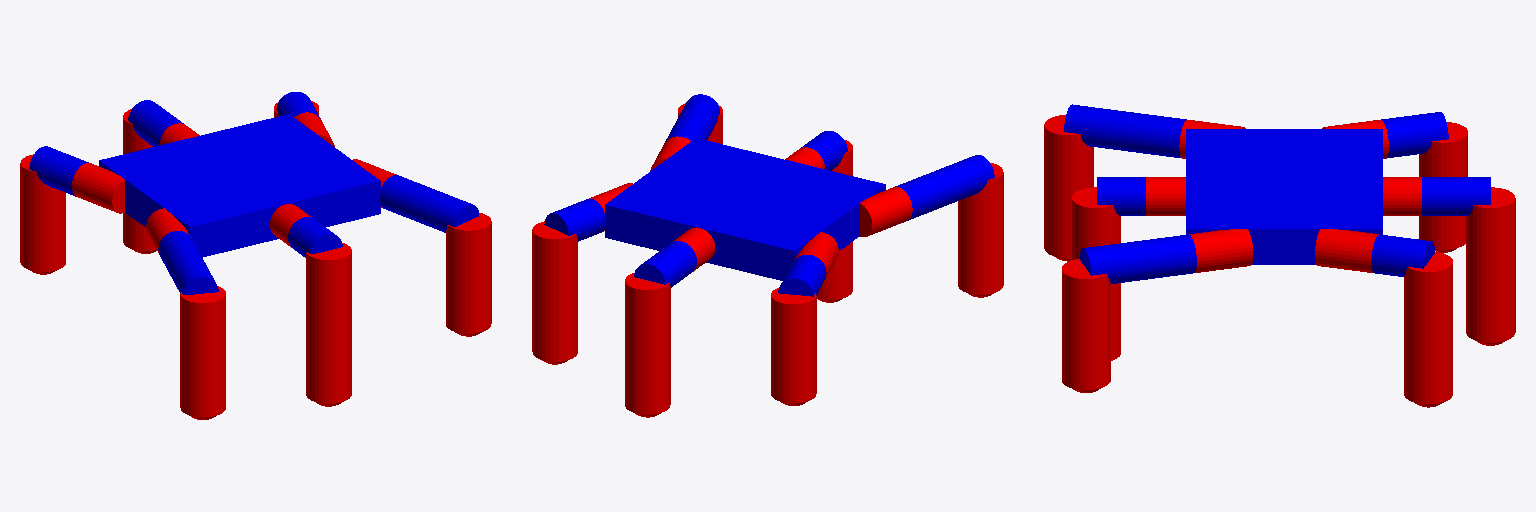
--- Facts derived from the render (not from the file) ---
The picture shows the robot from 3 angles, left to right: view 1: azimuth 30°, elevation 25°; view 2: azimuth 150°, elevation 25°; view 3: azimuth 270°, elevation 25°; orthographic projection.
Model pexod with 19 links and 18 joints (18 revolute), rooted at base_link, posed all joints at 0.
Visible links, largest first — view 1: base_link, leg_4_3, leg_5_3, leg_3_3, leg_0_3, leg_3_2, leg_5_2, leg_0_1, leg_0_2, leg_1_3, leg_4_2, leg_1_2 (+3 smaller); view 2: base_link, leg_1_3, leg_2_3, leg_0_3, leg_5_3, leg_5_2, leg_5_1, leg_1_2, leg_4_3, leg_2_2, leg_3_2, leg_0_2 (+3 smaller); view 3: base_link, leg_1_3, leg_2_3, leg_3_3, leg_5_3, leg_5_2, leg_3_2, leg_0_3, leg_4_3, leg_1_2, leg_2_1, leg_3_1 (+6 smaller).
Link boxes in pixels (x1=…): base_link: x1=99, y1=114, x2=380, y2=257; leg_4_3: x1=306, y1=243, x2=351, y2=406; leg_5_3: x1=180, y1=286, x2=225, y2=419; leg_3_3: x1=446, y1=213, x2=491, y2=336; leg_0_3: x1=20, y1=154, x2=65, y2=274; leg_3_2: x1=379, y1=175, x2=478, y2=232; leg_5_2: x1=158, y1=231, x2=218, y2=294; leg_0_1: x1=72, y1=163, x2=124, y2=213; leg_0_2: x1=29, y1=146, x2=88, y2=196; leg_1_3: x1=123, y1=109, x2=156, y2=253; leg_4_2: x1=288, y1=217, x2=342, y2=257; leg_1_2: x1=128, y1=100, x2=183, y2=146; base_link: x1=605, y1=138, x2=885, y2=280; leg_1_3: x1=625, y1=273, x2=670, y2=417; leg_2_3: x1=532, y1=221, x2=577, y2=364; leg_0_3: x1=771, y1=288, x2=816, y2=405; leg_5_3: x1=958, y1=163, x2=1003, y2=297; leg_5_2: x1=895, y1=155, x2=994, y2=220; leg_5_1: x1=860, y1=187, x2=912, y2=236; leg_1_2: x1=634, y1=241, x2=696, y2=287; leg_4_3: x1=817, y1=140, x2=852, y2=302; leg_2_2: x1=544, y1=199, x2=605, y2=241; leg_3_2: x1=665, y1=94, x2=719, y2=141; leg_0_2: x1=778, y1=255, x2=826, y2=296; base_link: x1=1186, y1=129, x2=1382, y2=264; leg_1_3: x1=1466, y1=187, x2=1515, y2=345; leg_2_3: x1=1404, y1=252, x2=1452, y2=407; leg_3_3: x1=1062, y1=259, x2=1110, y2=392; leg_5_3: x1=1044, y1=115, x2=1093, y2=261; leg_5_2: x1=1064, y1=104, x2=1186, y2=157; leg_3_2: x1=1080, y1=234, x2=1196, y2=283; leg_0_3: x1=1419, y1=122, x2=1467, y2=252; leg_4_3: x1=1072, y1=187, x2=1120, y2=360; leg_1_2: x1=1422, y1=177, x2=1490, y2=215; leg_2_1: x1=1315, y1=229, x2=1378, y2=272; leg_3_1: x1=1189, y1=229, x2=1252, y2=272.
Bounding box of the posed robot: 0.3946 × 0.4775 × 0.2059 m (x, y, z).
Geometry: primitives only (box / cylinder / sphere), no mesh files.

robot.urdf — pexod:
<?xml version="1.0" ?>
<!-- =================================================================================== -->
<!-- |    This document was autogenerated by xacro from pexod.xacro                    | -->
<!-- |    EDITING THIS FILE BY HAND IS NOT RECOMMENDED                                 | -->
<!-- =================================================================================== -->
<robot name="pexod" xmlns:xacro="http://www.ros.org/wiki/xacro">
  <!-- <xacro:include filename="$(find pexod_description)/urdf/pexod_control.xacro" /> -->
  <!-- MATERIALS -->
  <material name="Blue">
    <color rgba="0 0 1 1"/>
  </material>
  <material name="Red">
    <color rgba="1 0 0 1"/>
  </material>
  <material name="Green">
    <color rgba="0 1 0 1"/>
  </material>
  <material name="Yellow">
    <color rgba="1 1 0 1"/>
  </material>
  <material name="LightGrey">
    <color rgba="0.6 0.6 0.6 1.0"/>
  </material>
  <!-- END OF MATERIALS -->
  <!-- XACRO MACROS FOR VISUALS AND COLLISIONS -->
  <!-- END OF XACRO MACROS -->
  <!-- TORSO -->
  <link name="base_link">
    <visual>
      <origin rpy="0 0 0" xyz="0 0 0"/>
      <geometry>
        <box size="0.24 0.2 0.04"/>
      </geometry>
      <material name="Blue"/>
    </visual>
    <collision>
      <origin rpy="0 0 0" xyz="0 0 0"/>
      <geometry>
        <box size="0.24 0.2 0.04"/>
      </geometry>
    </collision>
    <inertial>
      <!-- CENTER OF MASS -->
      <origin rpy="0 0 0" xyz="0 0 0"/>
      <mass value="1.031"/>
      <!-- box inertia: 1/12*m(y^2+z^2), ... -->
      <inertia ixx="0.00357413333333" ixy="0" ixz="0" iyy="0.00508626666667" iyz="0" izz="0.00838546666667"/>
    </inertial>
  </link>
  <!-- XACRO MACRO FOR LEGS LINKS/JOINTS -->
  <!-- END OF LEG LINKS/JOINTS -->
  <joint name="body_leg_2" type="revolute">
    <parent link="base_link"/>
    <child link="leg_2_1"/>
    <limit effort="30.0" lower="-1.57079632679" upper="1.57079632679" velocity="7.0"/>
    <origin rpy="0 0 -0.3" xyz="0.11 0.04 0"/>
    <!-- <xacro:if value="${index == 5 or index == 4 or index == 3}">
                <axis xyz="0 0 1"/>
            </xacro:if>
            <xacro:if value="${index == 2 or index == 1 or index == 0}"> -->
    <axis xyz="0 0 1"/>
    <!-- </xacro:if> -->
    <dynamics damping="0.0"/>
  </joint>
  <link name="leg_2_1">
    <visual>
      <origin rpy="1.57079632679 0 0" xyz="0.01 0.03 0"/>
      <geometry>
        <cylinder length="0.06" radius="0.02"/>
      </geometry>
      <material name="Red"/>
    </visual>
    <collision>
      <origin rpy="1.57079632679 0 0" xyz="0.01 0.03 0"/>
      <geometry>
        <box size="0.02 0.02 0.06"/>
      </geometry>
    </collision>
    <inertial>
      <!-- CENTER OF MASS -->
      <origin rpy="1.57079632679 0 0" xyz="0.01 0.03 0"/>
      <mass value="0.02"/>
      <!-- box inertia: 1/12*m(y^2+z^2), ... -->
      <inertia ixx="6.66666666667e-06" ixy="0" ixz="0" iyy="6.66666666667e-06" iyz="0" izz="1.33333333333e-06"/>
    </inertial>
  </link>
  <joint name="leg_2_1_2" type="revolute">
    <parent link="leg_2_1"/>
    <child link="leg_2_2"/>
    <limit effort="30.0" lower="-0.78539816339" upper="0.78539816339" velocity="7.0"/>
    <origin rpy="0 0 0" xyz="0 0.06 0"/>
    <axis xyz="1 0 0"/>
    <dynamics damping="0.0"/>
  </joint>
  <link name="leg_2_2">
    <visual>
      <origin rpy="1.57079632679 0 0" xyz="0.01 0.0276145487223 0"/>
      <geometry>
        <cylinder length="0.0552290974446" radius="0.02"/>
      </geometry>
      <material name="Blue"/>
    </visual>
    <collision>
      <origin rpy="1.57079632679 0 0" xyz="0.01 0.0276145487223 0"/>
      <geometry>
        <box size="0.02 0.02 0.0552290974446"/>
      </geometry>
    </collision>
    <inertial>
      <!-- CENTER OF MASS -->
      <origin rpy="1.57079632679 0 0" xyz="0.01 0.0276145487223 0"/>
      <mass value="0.184"/>
      <!-- box inertia: 1/12*m(y^2+z^2), ... -->
      <inertia ixx="5.29038824697e-05" ixy="0" ixz="0" iyy="5.29038824697e-05" iyz="0" izz="1.22666666667e-05"/>
    </inertial>
  </link>
  <joint name="leg_2_2_3" type="revolute">
    <parent link="leg_2_2"/>
    <child link="leg_2_3"/>
    <limit effort="30.0" lower="-0.78539816339" upper="0.78539816339" velocity="7.0"/>
    <origin rpy="-1.57079632679 0 0" xyz="0 0.0552290974446 0"/>
    <axis xyz="-1 0 0"/>
    <dynamics damping="0.0"/>
  </joint>
  <link name="leg_2_3">
    <visual>
      <origin rpy="1.57079632679 0 0" xyz="0.0125 0.07402724672 0"/>
      <geometry>
        <cylinder length="0.14805449344" radius="0.025"/>
      </geometry>
      <material name="Red"/>
    </visual>
    <visual>
      <origin rpy="1.57079632679 0 0" xyz="0.0125 0.13555449344 0"/>
      <geometry>
        <sphere radius="0.025"/>
      </geometry>
      <material name="Red"/>
    </visual>
    <collision>
      <origin rpy="1.57079632679 0 0" xyz="0.0125 0.07402724672 0"/>
      <geometry>
        <box size="0.025 0.025 0.14805449344"/>
      </geometry>
    </collision>
    <collision>
      <origin rpy="1.57079632679 0 0" xyz="0.0125 0.13555449344 0"/>
      <geometry>
        <sphere radius="0.025"/>
      </geometry>
      <material name="Red"/>
    </collision>
    <inertial>
      <!-- CENTER OF MASS -->
      <origin rpy="1.57079632679 0 0" xyz="0.0125 0.07402724672 0"/>
      <mass value="0.04"/>
      <!-- box inertia: 1/12*m(y^2+z^2), ... -->
      <inertia ixx="7.51504434259e-05" ixy="0" ixz="0" iyy="7.51504434259e-05" iyz="0" izz="4.16666666667e-06"/>
    </inertial>
  </link>
  <joint name="body_leg_3" type="revolute">
    <parent link="base_link"/>
    <child link="leg_3_1"/>
    <limit effort="30.0" lower="-1.57079632679" upper="1.57079632679" velocity="7.0"/>
    <origin rpy="0 0 0.3" xyz="0.11 -0.04 0"/>
    <!-- <xacro:if value="${index == 5 or index == 4 or index == 3}">
                <axis xyz="0 0 1"/>
            </xacro:if>
            <xacro:if value="${index == 2 or index == 1 or index == 0}"> -->
    <axis xyz="0 0 1"/>
    <!-- </xacro:if> -->
    <dynamics damping="0.0"/>
  </joint>
  <link name="leg_3_1">
    <visual>
      <origin rpy="1.57079632679 0 0" xyz="0.01 -0.03 0"/>
      <geometry>
        <cylinder length="0.06" radius="0.02"/>
      </geometry>
      <material name="Red"/>
    </visual>
    <collision>
      <origin rpy="1.57079632679 0 0" xyz="0.01 -0.03 0"/>
      <geometry>
        <box size="0.02 0.02 0.06"/>
      </geometry>
    </collision>
    <inertial>
      <!-- CENTER OF MASS -->
      <origin rpy="1.57079632679 0 0" xyz="0.01 -0.03 0"/>
      <mass value="0.02"/>
      <!-- box inertia: 1/12*m(y^2+z^2), ... -->
      <inertia ixx="6.66666666667e-06" ixy="0" ixz="0" iyy="6.66666666667e-06" iyz="0" izz="1.33333333333e-06"/>
    </inertial>
  </link>
  <joint name="leg_3_1_2" type="revolute">
    <parent link="leg_3_1"/>
    <child link="leg_3_2"/>
    <limit effort="30.0" lower="-0.78539816339" upper="0.78539816339" velocity="7.0"/>
    <origin rpy="0 0 0" xyz="0 -0.06 0"/>
    <axis xyz="-1 0 0"/>
    <dynamics damping="0.0"/>
  </joint>
  <link name="leg_3_2">
    <visual>
      <origin rpy="1.57079632679 0 0" xyz="0.01 -0.056002991232 0"/>
      <geometry>
        <cylinder length="0.112005982464" radius="0.02"/>
      </geometry>
      <material name="Blue"/>
    </visual>
    <collision>
      <origin rpy="1.57079632679 0 0" xyz="0.01 -0.056002991232 0"/>
      <geometry>
        <box size="0.02 0.02 0.112005982464"/>
      </geometry>
    </collision>
    <inertial>
      <!-- CENTER OF MASS -->
      <origin rpy="1.57079632679 0 0" xyz="0.01 -0.056002991232 0"/>
      <mass value="0.184"/>
      <!-- box inertia: 1/12*m(y^2+z^2), ... -->
      <inertia ixx="0.000198495214985" ixy="0" ixz="0" iyy="0.000198495214985" iyz="0" izz="1.22666666667e-05"/>
    </inertial>
  </link>
  <joint name="leg_3_2_3" type="revolute">
    <parent link="leg_3_2"/>
    <child link="leg_3_3"/>
    <limit effort="30.0" lower="-0.78539816339" upper="0.78539816339" velocity="7.0"/>
    <origin rpy="1.57079632679 0 0" xyz="0 -0.112005982464 0"/>
    <axis xyz="1 0 0"/>
    <dynamics damping="0.0"/>
  </joint>
  <link name="leg_3_3">
    <visual>
      <origin rpy="1.57079632679 0 0" xyz="0.0125 -0.06219159259 0"/>
      <geometry>
        <cylinder length="0.12438318518" radius="0.025"/>
      </geometry>
      <material name="Red"/>
    </visual>
    <visual>
      <origin rpy="1.57079632679 0 0" xyz="0.0125 -0.11188318518 0"/>
      <geometry>
        <sphere radius="0.025"/>
      </geometry>
      <material name="Red"/>
    </visual>
    <collision>
      <origin rpy="1.57079632679 0 0" xyz="0.0125 -0.06219159259 0"/>
      <geometry>
        <box size="0.025 0.025 0.12438318518"/>
      </geometry>
    </collision>
    <collision>
      <origin rpy="1.57079632679 0 0" xyz="0.0125 -0.11188318518 0"/>
      <geometry>
        <sphere radius="0.025"/>
      </geometry>
      <material name="Red"/>
    </collision>
    <inertial>
      <!-- CENTER OF MASS -->
      <origin rpy="1.57079632679 0 0" xyz="0.0125 -0.06219159259 0"/>
      <mass value="0.04"/>
      <!-- box inertia: 1/12*m(y^2+z^2), ... -->
      <inertia ixx="5.36539225184e-05" ixy="0" ixz="0" iyy="5.36539225184e-05" iyz="0" izz="4.16666666667e-06"/>
    </inertial>
  </link>
  <joint name="body_leg_0" type="revolute">
    <parent link="base_link"/>
    <child link="leg_0_1"/>
    <limit effort="30.0" lower="-1.57079632679" upper="1.57079632679" velocity="7.0"/>
    <origin rpy="0 0 0.3" xyz="-0.13 0.04 0"/>
    <!-- <xacro:if value="${index == 5 or index == 4 or index == 3}">
                <axis xyz="0 0 1"/>
            </xacro:if>
            <xacro:if value="${index == 2 or index == 1 or index == 0}"> -->
    <axis xyz="0 0 1"/>
    <!-- </xacro:if> -->
    <dynamics damping="0.0"/>
  </joint>
  <link name="leg_0_1">
    <visual>
      <origin rpy="1.57079632679 0 0" xyz="0.01 0.03 0"/>
      <geometry>
        <cylinder length="0.06" radius="0.02"/>
      </geometry>
      <material name="Red"/>
    </visual>
    <collision>
      <origin rpy="1.57079632679 0 0" xyz="0.01 0.03 0"/>
      <geometry>
        <box size="0.02 0.02 0.06"/>
      </geometry>
    </collision>
    <inertial>
      <!-- CENTER OF MASS -->
      <origin rpy="1.57079632679 0 0" xyz="0.01 0.03 0"/>
      <mass value="0.02"/>
      <!-- box inertia: 1/12*m(y^2+z^2), ... -->
      <inertia ixx="6.66666666667e-06" ixy="0" ixz="0" iyy="6.66666666667e-06" iyz="0" izz="1.33333333333e-06"/>
    </inertial>
  </link>
  <joint name="leg_0_1_2" type="revolute">
    <parent link="leg_0_1"/>
    <child link="leg_0_2"/>
    <limit effort="30.0" lower="-0.78539816339" upper="0.78539816339" velocity="7.0"/>
    <origin rpy="0 0 0" xyz="0 0.06 0"/>
    <axis xyz="1 0 0"/>
    <dynamics damping="0.0"/>
  </joint>
  <link name="leg_0_2">
    <visual>
      <origin rpy="1.57079632679 0 0" xyz="0.01 0.0317383941787 0"/>
      <geometry>
        <cylinder length="0.0634767883575" radius="0.02"/>
      </geometry>
      <material name="Blue"/>
    </visual>
    <collision>
      <origin rpy="1.57079632679 0 0" xyz="0.01 0.0317383941787 0"/>
      <geometry>
        <box size="0.02 0.02 0.0634767883575"/>
      </geometry>
    </collision>
    <inertial>
      <!-- CENTER OF MASS -->
      <origin rpy="1.57079632679 0 0" xyz="0.01 0.0317383941787 0"/>
      <mass value="0.184"/>
      <!-- box inertia: 1/12*m(y^2+z^2), ... -->
      <inertia ixx="6.79159741228e-05" ixy="0" ixz="0" iyy="6.79159741228e-05" iyz="0" izz="1.22666666667e-05"/>
    </inertial>
  </link>
  <joint name="leg_0_2_3" type="revolute">
    <parent link="leg_0_2"/>
    <child link="leg_0_3"/>
    <limit effort="30.0" lower="-0.78539816339" upper="0.78539816339" velocity="7.0"/>
    <origin rpy="-1.57079632679 0 0" xyz="0 0.0634767883575 0"/>
    <axis xyz="-1 0 0"/>
    <dynamics damping="0.0"/>
  </joint>
  <link name="leg_0_3">
    <visual>
      <origin rpy="1.57079632679 0 0" xyz="0.0125 0.0599199497235 0"/>
      <geometry>
        <cylinder length="0.119839899447" radius="0.025"/>
      </geometry>
      <material name="Red"/>
    </visual>
    <visual>
      <origin rpy="1.57079632679 0 0" xyz="0.0125 0.107339899447 0"/>
      <geometry>
        <sphere radius="0.025"/>
      </geometry>
      <material name="Red"/>
    </visual>
    <collision>
      <origin rpy="1.57079632679 0 0" xyz="0.0125 0.0599199497235 0"/>
      <geometry>
        <box size="0.025 0.025 0.119839899447"/>
      </geometry>
    </collision>
    <collision>
      <origin rpy="1.57079632679 0 0" xyz="0.0125 0.107339899447 0"/>
      <geometry>
        <sphere radius="0.025"/>
      </geometry>
      <material name="Red"/>
    </collision>
    <inertial>
      <!-- CENTER OF MASS -->
      <origin rpy="1.57079632679 0 0" xyz="0.0125 0.0599199497235 0"/>
      <mass value="0.04"/>
      <!-- box inertia: 1/12*m(y^2+z^2), ... -->
      <inertia ixx="4.99553383316e-05" ixy="0" ixz="0" iyy="4.99553383316e-05" iyz="0" izz="4.16666666667e-06"/>
    </inertial>
  </link>
  <joint name="body_leg_5" type="revolute">
    <parent link="base_link"/>
    <child link="leg_5_1"/>
    <limit effort="30.0" lower="-1.57079632679" upper="1.57079632679" velocity="7.0"/>
    <origin rpy="0 0 -0.3" xyz="-0.13 -0.04 0"/>
    <!-- <xacro:if value="${index == 5 or index == 4 or index == 3}">
                <axis xyz="0 0 1"/>
            </xacro:if>
            <xacro:if value="${index == 2 or index == 1 or index == 0}"> -->
    <axis xyz="0 0 1"/>
    <!-- </xacro:if> -->
    <dynamics damping="0.0"/>
  </joint>
  <link name="leg_5_1">
    <visual>
      <origin rpy="1.57079632679 0 0" xyz="0.01 -0.03 0"/>
      <geometry>
        <cylinder length="0.06" radius="0.02"/>
      </geometry>
      <material name="Red"/>
    </visual>
    <collision>
      <origin rpy="1.57079632679 0 0" xyz="0.01 -0.03 0"/>
      <geometry>
        <box size="0.02 0.02 0.06"/>
      </geometry>
    </collision>
    <inertial>
      <!-- CENTER OF MASS -->
      <origin rpy="1.57079632679 0 0" xyz="0.01 -0.03 0"/>
      <mass value="0.02"/>
      <!-- box inertia: 1/12*m(y^2+z^2), ... -->
      <inertia ixx="6.66666666667e-06" ixy="0" ixz="0" iyy="6.66666666667e-06" iyz="0" izz="1.33333333333e-06"/>
    </inertial>
  </link>
  <joint name="leg_5_1_2" type="revolute">
    <parent link="leg_5_1"/>
    <child link="leg_5_2"/>
    <limit effort="30.0" lower="-0.78539816339" upper="0.78539816339" velocity="7.0"/>
    <origin rpy="0 0 0" xyz="0 -0.06 0"/>
    <axis xyz="-1 0 0"/>
    <dynamics damping="0.0"/>
  </joint>
  <link name="leg_5_2">
    <visual>
      <origin rpy="1.57079632679 0 0" xyz="0.01 -0.0612631749615 0"/>
      <geometry>
        <cylinder length="0.122526349923" radius="0.02"/>
      </geometry>
      <material name="Blue"/>
    </visual>
    <collision>
      <origin rpy="1.57079632679 0 0" xyz="0.01 -0.0612631749615 0"/>
      <geometry>
        <box size="0.02 0.02 0.122526349923"/>
      </geometry>
    </collision>
    <inertial>
      <!-- CENTER OF MASS -->
      <origin rpy="1.57079632679 0 0" xyz="0.01 -0.0612631749615 0"/>
      <mass value="0.184"/>
      <!-- box inertia: 1/12*m(y^2+z^2), ... -->
      <inertia ixx="0.00023632816519" ixy="0" ixz="0" iyy="0.00023632816519" iyz="0" izz="1.22666666667e-05"/>
    </inertial>
  </link>
  <joint name="leg_5_2_3" type="revolute">
    <parent link="leg_5_2"/>
    <child link="leg_5_3"/>
    <limit effort="30.0" lower="-0.78539816339" upper="0.78539816339" velocity="7.0"/>
    <origin rpy="1.57079632679 0 0" xyz="0 -0.122526349923 0"/>
    <axis xyz="1 0 0"/>
    <dynamics damping="0.0"/>
  </joint>
  <link name="leg_5_3">
    <visual>
      <origin rpy="1.57079632679 0 0" xyz="0.0125 -0.0688867739515 0"/>
      <geometry>
        <cylinder length="0.137773547903" radius="0.025"/>
      </geometry>
      <material name="Red"/>
    </visual>
    <visual>
      <origin rpy="1.57079632679 0 0" xyz="0.0125 -0.125273547903 0"/>
      <geometry>
        <sphere radius="0.025"/>
      </geometry>
      <material name="Red"/>
    </visual>
    <collision>
      <origin rpy="1.57079632679 0 0" xyz="0.0125 -0.0688867739515 0"/>
      <geometry>
        <box size="0.025 0.025 0.137773547903"/>
      </geometry>
    </collision>
    <collision>
      <origin rpy="1.57079632679 0 0" xyz="0.0125 -0.125273547903 0"/>
      <geometry>
        <sphere radius="0.025"/>
      </geometry>
      <material name="Red"/>
    </collision>
    <inertial>
      <!-- CENTER OF MASS -->
      <origin rpy="1.57079632679 0 0" xyz="0.0125 -0.0688867739515 0"/>
      <mass value="0.04"/>
      <!-- box inertia: 1/12*m(y^2+z^2), ... -->
      <inertia ixx="6.53551683393e-05" ixy="0" ixz="0" iyy="6.53551683393e-05" iyz="0" izz="4.16666666667e-06"/>
    </inertial>
  </link>
  <joint name="body_leg_1" type="revolute">
    <parent link="base_link"/>
    <child link="leg_1_1"/>
    <limit effort="30.0" lower="-1.57079632679" upper="1.57079632679" velocity="7.0"/>
    <origin rpy="0 0 0" xyz="-0.01 0.08 0"/>
    <!-- <xacro:if value="${index == 5 or index == 4 or index == 3}">
                <axis xyz="0 0 1"/>
            </xacro:if>
            <xacro:if value="${index == 2 or index == 1 or index == 0}"> -->
    <axis xyz="0 0 1"/>
    <!-- </xacro:if> -->
    <dynamics damping="0.0"/>
  </joint>
  <link name="leg_1_1">
    <visual>
      <origin rpy="1.57079632679 0 0" xyz="0.01 0.03 0"/>
      <geometry>
        <cylinder length="0.06" radius="0.02"/>
      </geometry>
      <material name="Red"/>
    </visual>
    <collision>
      <origin rpy="1.57079632679 0 0" xyz="0.01 0.03 0"/>
      <geometry>
        <box size="0.02 0.02 0.06"/>
      </geometry>
    </collision>
    <inertial>
      <!-- CENTER OF MASS -->
      <origin rpy="1.57079632679 0 0" xyz="0.01 0.03 0"/>
      <mass value="0.02"/>
      <!-- box inertia: 1/12*m(y^2+z^2), ... -->
      <inertia ixx="6.66666666667e-06" ixy="0" ixz="0" iyy="6.66666666667e-06" iyz="0" izz="1.33333333333e-06"/>
    </inertial>
  </link>
  <joint name="leg_1_1_2" type="revolute">
    <parent link="leg_1_1"/>
    <child link="leg_1_2"/>
    <limit effort="30.0" lower="-0.78539816339" upper="0.78539816339" velocity="7.0"/>
    <origin rpy="0 0 0" xyz="0 0.06 0"/>
    <axis xyz="1 0 0"/>
    <dynamics damping="0.0"/>
  </joint>
  <link name="leg_1_2">
    <visual>
      <origin rpy="1.57079632679 0 0" xyz="0.01 0.0347576737626 0"/>
      <geometry>
        <cylinder length="0.0695153475252" radius="0.02"/>
      </geometry>
      <material name="Blue"/>
    </visual>
    <collision>
      <origin rpy="1.57079632679 0 0" xyz="0.01 0.0347576737626 0"/>
      <geometry>
        <box size="0.02 0.02 0.0695153475252"/>
      </geometry>
    </collision>
    <inertial>
      <!-- CENTER OF MASS -->
      <origin rpy="1.57079632679 0 0" xyz="0.01 0.0347576737626 0"/>
      <mass value="0.184"/>
      <!-- box inertia: 1/12*m(y^2+z^2), ... -->
      <inertia ixx="8.02298809704e-05" ixy="0" ixz="0" iyy="8.02298809704e-05" iyz="0" izz="1.22666666667e-05"/>
    </inertial>
  </link>
  <joint name="leg_1_2_3" type="revolute">
    <parent link="leg_1_2"/>
    <child link="leg_1_3"/>
    <limit effort="30.0" lower="-0.78539816339" upper="0.78539816339" velocity="7.0"/>
    <origin rpy="-1.57079632679 0 0" xyz="0 0.0695153475252 0"/>
    <axis xyz="-1 0 0"/>
    <dynamics damping="0.0"/>
  </joint>
  <link name="leg_1_3">
    <visual>
      <origin rpy="1.57079632679 0 0" xyz="0.0125 0.075376510471 0"/>
      <geometry>
        <cylinder length="0.150753020942" radius="0.025"/>
      </geometry>
      <material name="Red"/>
    </visual>
    <visual>
      <origin rpy="1.57079632679 0 0" xyz="0.0125 0.138253020942 0"/>
      <geometry>
        <sphere radius="0.025"/>
      </geometry>
      <material name="Red"/>
    </visual>
    <collision>
      <origin rpy="1.57079632679 0 0" xyz="0.0125 0.075376510471 0"/>
      <geometry>
        <box size="0.025 0.025 0.150753020942"/>
      </geometry>
    </collision>
    <collision>
      <origin rpy="1.57079632679 0 0" xyz="0.0125 0.138253020942 0"/>
      <geometry>
        <sphere radius="0.025"/>
      </geometry>
      <material name="Red"/>
    </collision>
    <inertial>
      <!-- CENTER OF MASS -->
      <origin rpy="1.57079632679 0 0" xyz="0.0125 0.075376510471 0"/>
      <mass value="0.04"/>
      <!-- box inertia: 1/12*m(y^2+z^2), ... -->
      <inertia ixx="7.78382444105e-05" ixy="0" ixz="0" iyy="7.78382444105e-05" iyz="0" izz="4.16666666667e-06"/>
    </inertial>
  </link>
  <joint name="body_leg_4" type="revolute">
    <parent link="base_link"/>
    <child link="leg_4_1"/>
    <limit effort="30.0" lower="-1.57079632679" upper="1.57079632679" velocity="7.0"/>
    <origin rpy="0 0 0" xyz="-0.01 -0.08 0"/>
    <!-- <xacro:if value="${index == 5 or index == 4 or index == 3}">
                <axis xyz="0 0 1"/>
            </xacro:if>
            <xacro:if value="${index == 2 or index == 1 or index == 0}"> -->
    <axis xyz="0 0 1"/>
    <!-- </xacro:if> -->
    <dynamics damping="0.0"/>
  </joint>
  <link name="leg_4_1">
    <visual>
      <origin rpy="1.57079632679 0 0" xyz="0.01 -0.03 0"/>
      <geometry>
        <cylinder length="0.06" radius="0.02"/>
      </geometry>
      <material name="Red"/>
    </visual>
    <collision>
      <origin rpy="1.57079632679 0 0" xyz="0.01 -0.03 0"/>
      <geometry>
        <box size="0.02 0.02 0.06"/>
      </geometry>
    </collision>
    <inertial>
      <!-- CENTER OF MASS -->
      <origin rpy="1.57079632679 0 0" xyz="0.01 -0.03 0"/>
      <mass value="0.02"/>
      <!-- box inertia: 1/12*m(y^2+z^2), ... -->
      <inertia ixx="6.66666666667e-06" ixy="0" ixz="0" iyy="6.66666666667e-06" iyz="0" izz="1.33333333333e-06"/>
    </inertial>
  </link>
  <joint name="leg_4_1_2" type="revolute">
    <parent link="leg_4_1"/>
    <child link="leg_4_2"/>
    <limit effort="30.0" lower="-0.78539816339" upper="0.78539816339" velocity="7.0"/>
    <origin rpy="0 0 0" xyz="0 -0.06 0"/>
    <axis xyz="-1 0 0"/>
    <dynamics damping="0.0"/>
  </joint>
  <link name="leg_4_2">
    <visual>
      <origin rpy="1.57079632679 0 0" xyz="0.01 -0.0250846344597 0"/>
      <geometry>
        <cylinder length="0.0501692689194" radius="0.02"/>
      </geometry>
      <material name="Blue"/>
    </visual>
    <collision>
      <origin rpy="1.57079632679 0 0" xyz="0.01 -0.0250846344597 0"/>
      <geometry>
        <box size="0.02 0.02 0.0501692689194"/>
      </geometry>
    </collision>
    <inertial>
      <!-- CENTER OF MASS -->
      <origin rpy="1.57079632679 0 0" xyz="0.01 -0.0250846344597 0"/>
      <mass value="0.184"/>
      <!-- box inertia: 1/12*m(y^2+z^2), ... -->
      <inertia ixx="4.47266516732e-05" ixy="0" ixz="0" iyy="4.47266516732e-05" iyz="0" izz="1.22666666667e-05"/>
    </inertial>
  </link>
  <joint name="leg_4_2_3" type="revolute">
    <parent link="leg_4_2"/>
    <child link="leg_4_3"/>
    <limit effort="30.0" lower="-0.78539816339" upper="0.78539816339" velocity="7.0"/>
    <origin rpy="1.57079632679 0 0" xyz="0 -0.0501692689194 0"/>
    <axis xyz="1 0 0"/>
    <dynamics damping="0.0"/>
  </joint>
  <link name="leg_4_3">
    <visual>
      <origin rpy="1.57079632679 0 0" xyz="0.0125 -0.0867127654395 0"/>
      <geometry>
        <cylinder length="0.173425530879" radius="0.025"/>
      </geometry>
      <material name="Red"/>
    </visual>
    <visual>
      <origin rpy="1.57079632679 0 0" xyz="0.0125 -0.160925530879 0"/>
      <geometry>
        <sphere radius="0.025"/>
      </geometry>
      <material name="Red"/>
    </visual>
    <collision>
      <origin rpy="1.57079632679 0 0" xyz="0.0125 -0.0867127654395 0"/>
      <geometry>
        <box size="0.025 0.025 0.173425530879"/>
      </geometry>
    </collision>
    <collision>
      <origin rpy="1.57079632679 0 0" xyz="0.0125 -0.160925530879 0"/>
      <geometry>
        <sphere radius="0.025"/>
      </geometry>
      <material name="Red"/>
    </collision>
    <inertial>
      <!-- CENTER OF MASS -->
      <origin rpy="1.57079632679 0 0" xyz="0.0125 -0.0867127654395 0"/>
      <mass value="0.04"/>
      <!-- box inertia: 1/12*m(y^2+z^2), ... -->
      <inertia ixx="0.000102338049202" ixy="0" ixz="0" iyy="0.000102338049202" iyz="0" izz="4.16666666667e-06"/>
    </inertial>
  </link>
  <!-- END OF LEG LINKS/JOINTS -->
</robot>
